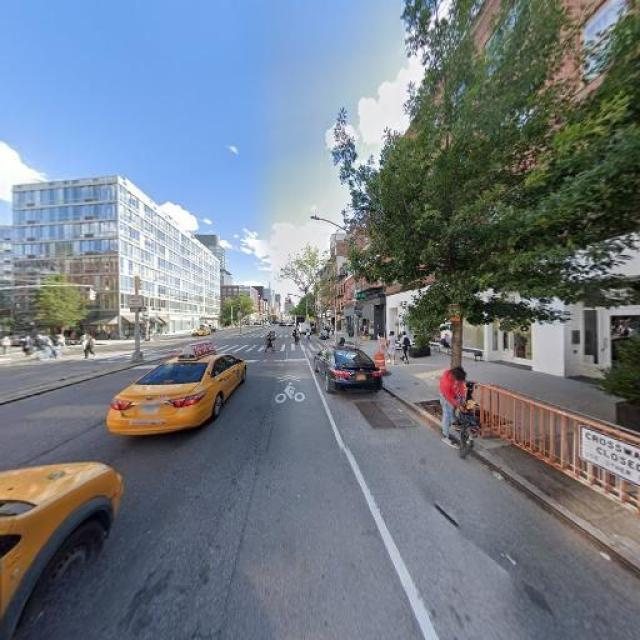Building: (388, 1, 640, 395), (9, 175, 220, 343), (347, 247, 385, 340), (339, 278, 344, 332)
